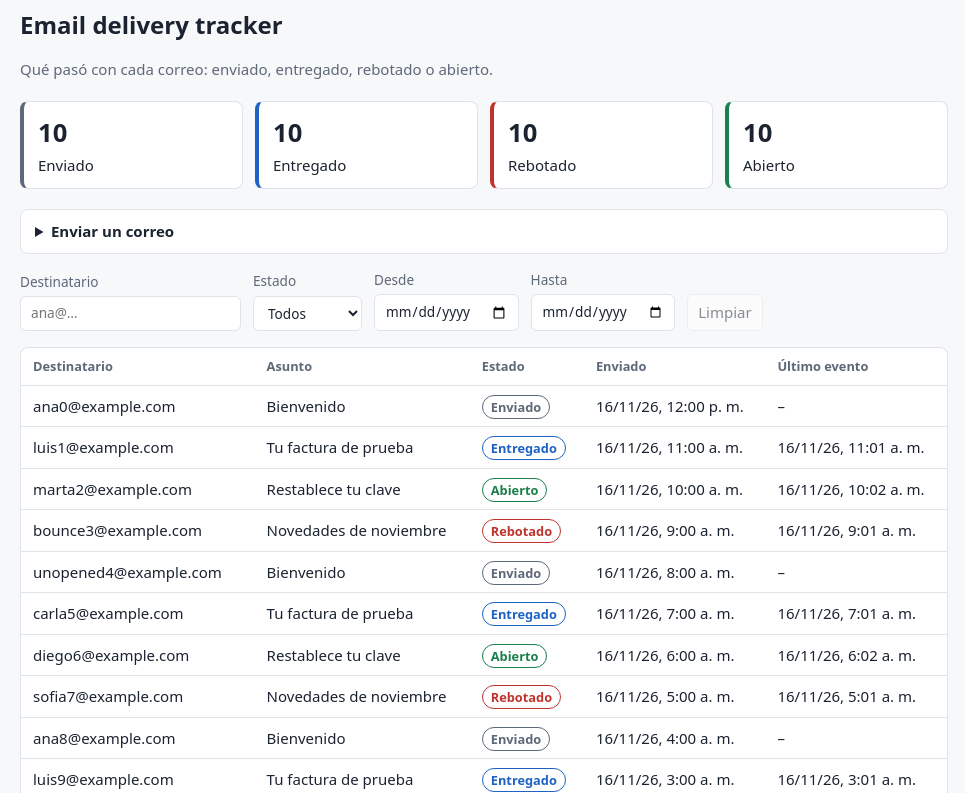
sin coincidencias muestra un mensaje
Type "nadie-con-este-nombre" into the search field labelled "Destinatario" at (130,314), box [20,296,241,331]
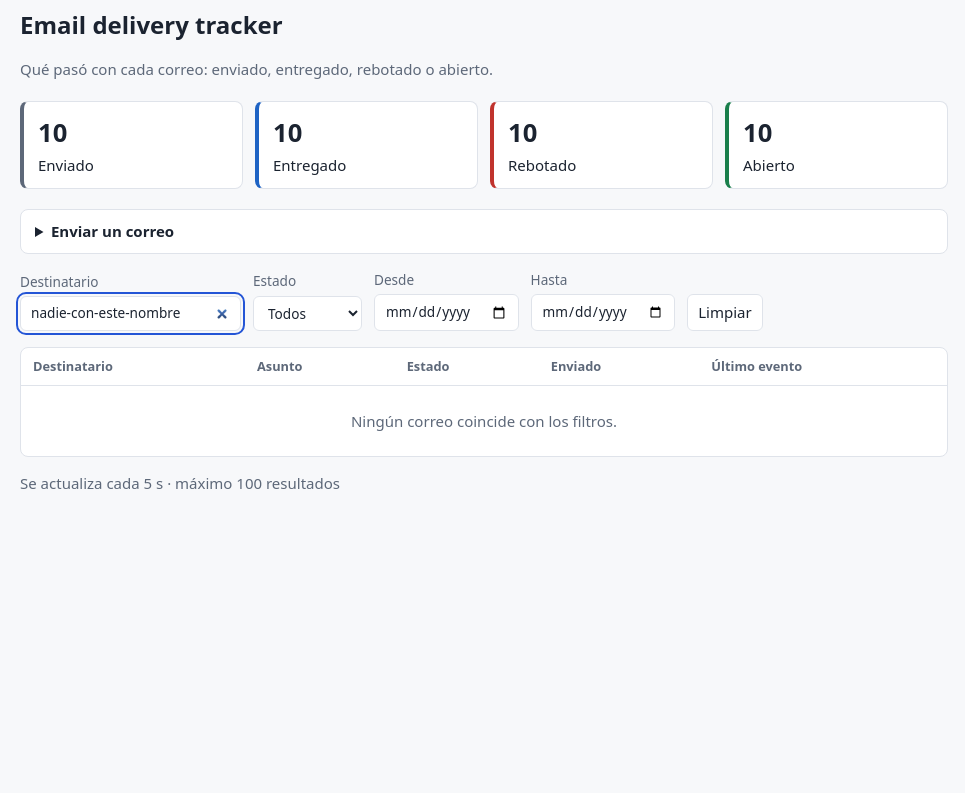
Result: the text "Ningún correo coincide con los filtros." is shown at [351,411,617,431]
